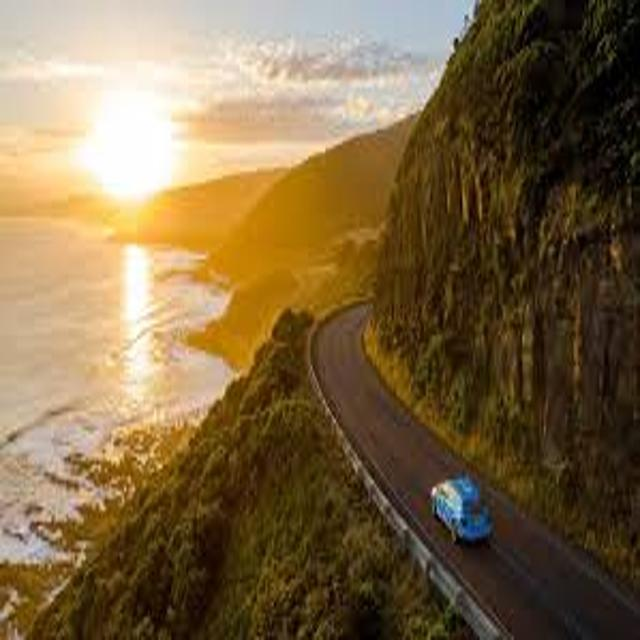car: (431, 477, 492, 545)
